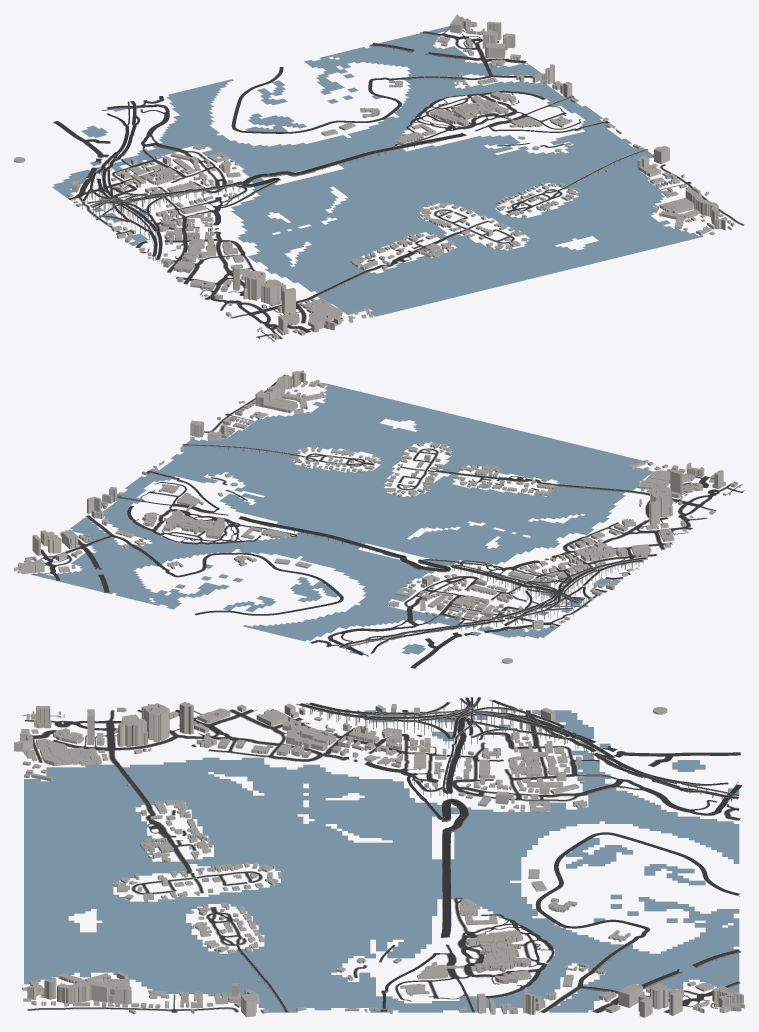
File: chunk_8_4.glb
The picture shows the model from 3 angles, top to bottom: view 1: azimuth 30°, elevation 25°; view 2: azimuth 150°, elevation 25°; view 3: azimuth 270°, elevation 25°; orthographic projection. The views are drawn at different scales.
Visible parts, largest first — view 1: Water_8_4, Buildings_8_4, Roads_8_4, RoadSides_8_4, Filler_8_4; view 2: Water_8_4, Buildings_8_4, Roads_8_4, RoadSides_8_4, Filler_8_4; view 3: Water_8_4, Buildings_8_4, Roads_8_4, RoadSides_8_4, Filler_8_4.
Part boxes in pixels (x1,y1,x2,y2): Water_8_4: (52,26,703,316); Buildings_8_4: (14,14,734,339); Roads_8_4: (53,26,743,341); RoadSides_8_4: (74,31,744,339); Filler_8_4: (67,144,723,338); Water_8_4: (32,383,652,654); Buildings_8_4: (14,370,740,663); Roads_8_4: (31,374,744,668); RoadSides_8_4: (41,374,741,656); Filler_8_4: (180,380,736,629); Water_8_4: (24,710,739,1012); Buildings_8_4: (14,702,744,1017); Roads_8_4: (23,697,741,1013); RoadSides_8_4: (24,697,741,1012); Filler_8_4: (22,703,585,1013).
Size of the model in its own units: 2097 by 92.98 by 2093.
